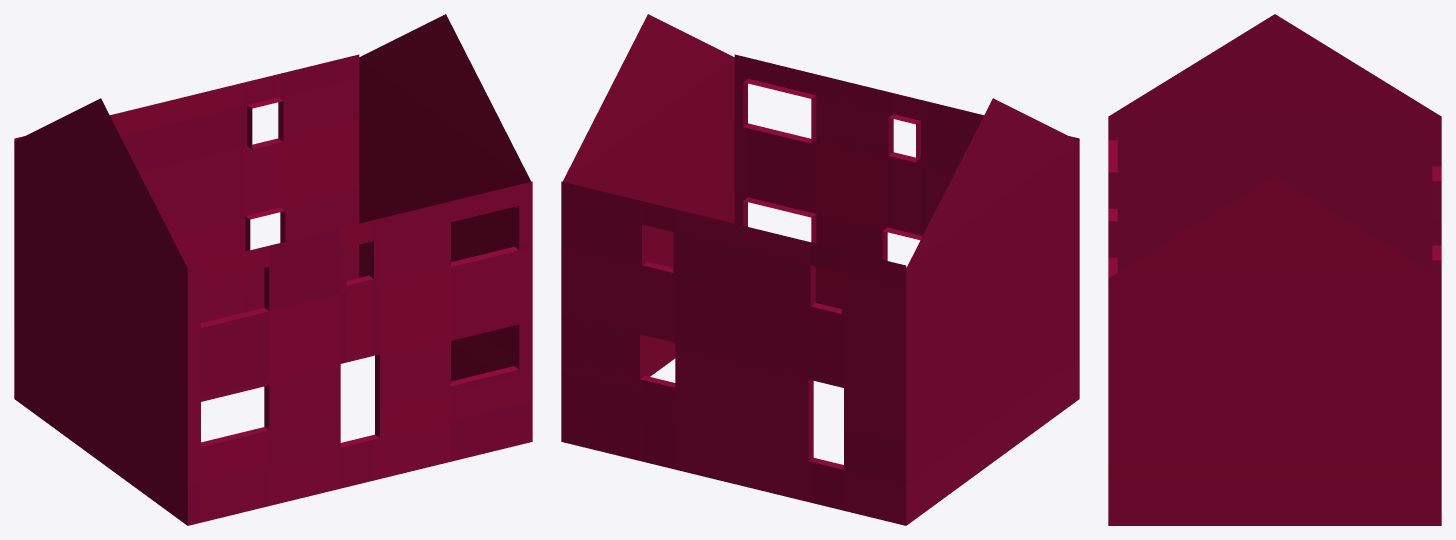
Rendered from SM_Bld_187_Masonry.glb.
3 views of the same model, side by side, from view 1: azimuth 30°, elevation 25°; view 2: azimuth 150°, elevation 25°; view 3: azimuth 270°, elevation 25° (orthographic). The views are drawn at different scales.
Visible parts, largest first — view 1: SM_Bld_187_Masonry; view 2: SM_Bld_187_Masonry; view 3: SM_Bld_187_Masonry.
Boxes of the visible parts, left/top/right/bottom form: SM_Bld_187_Masonry: left=14, top=14, right=532, bottom=525; SM_Bld_187_Masonry: left=561, top=14, right=1079, bottom=525; SM_Bld_187_Masonry: left=1108, top=14, right=1441, bottom=525.
Bounding box in the file's own units: 8.83 × 8.91 × 7.69.
